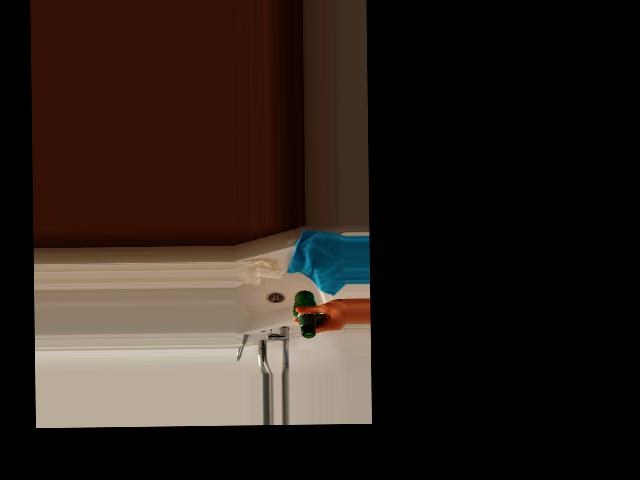beer: (292, 289, 319, 337)
